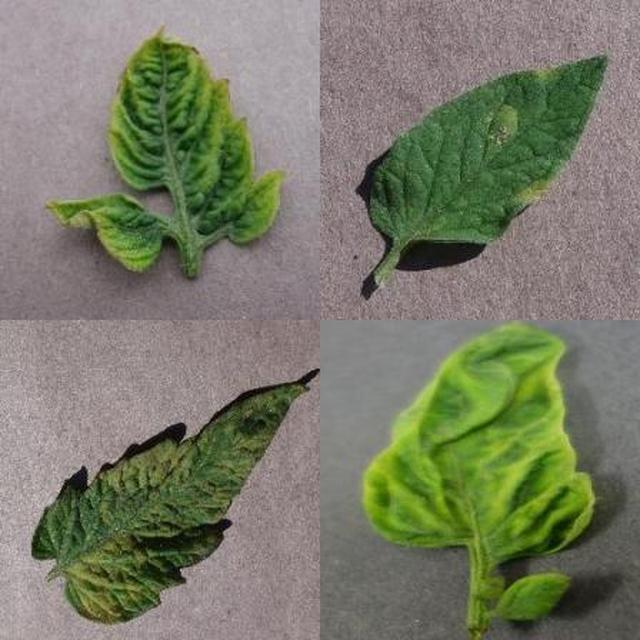Yellow Leaf Curl Virus: (108, 68, 640, 640)
